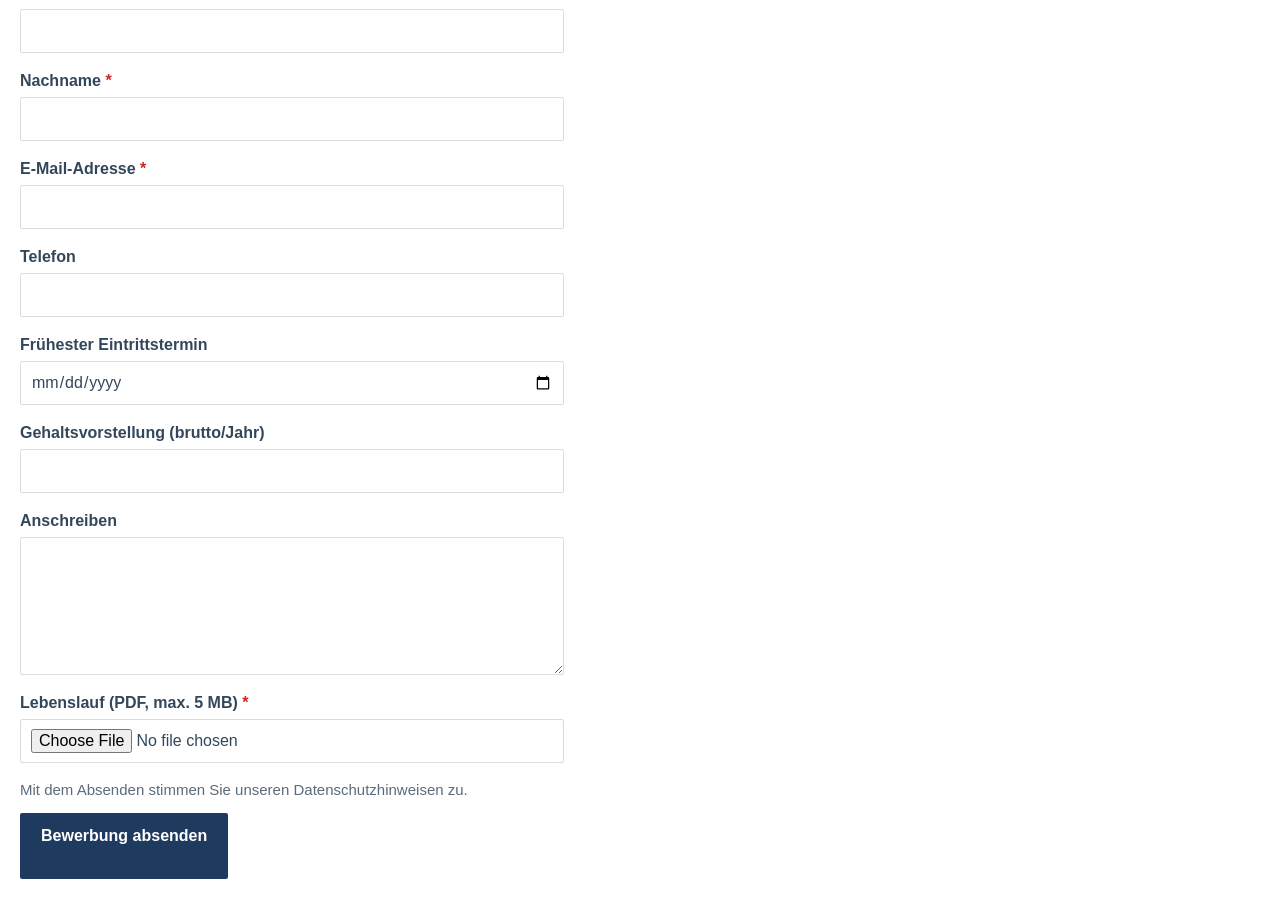
it: ApplicationFormStepComponent (docs/SPEC_v1.md Slice 8) › barrier `fehler` — resolved › renders a summary with jump links to every field in error
The width and height of the screenshot is (1280, 899).
(page scrolled)
Click the button with class "submit-button". click: (124, 846)
box: top-left (20, 813), bottom-right (228, 879)
(page scrolled)
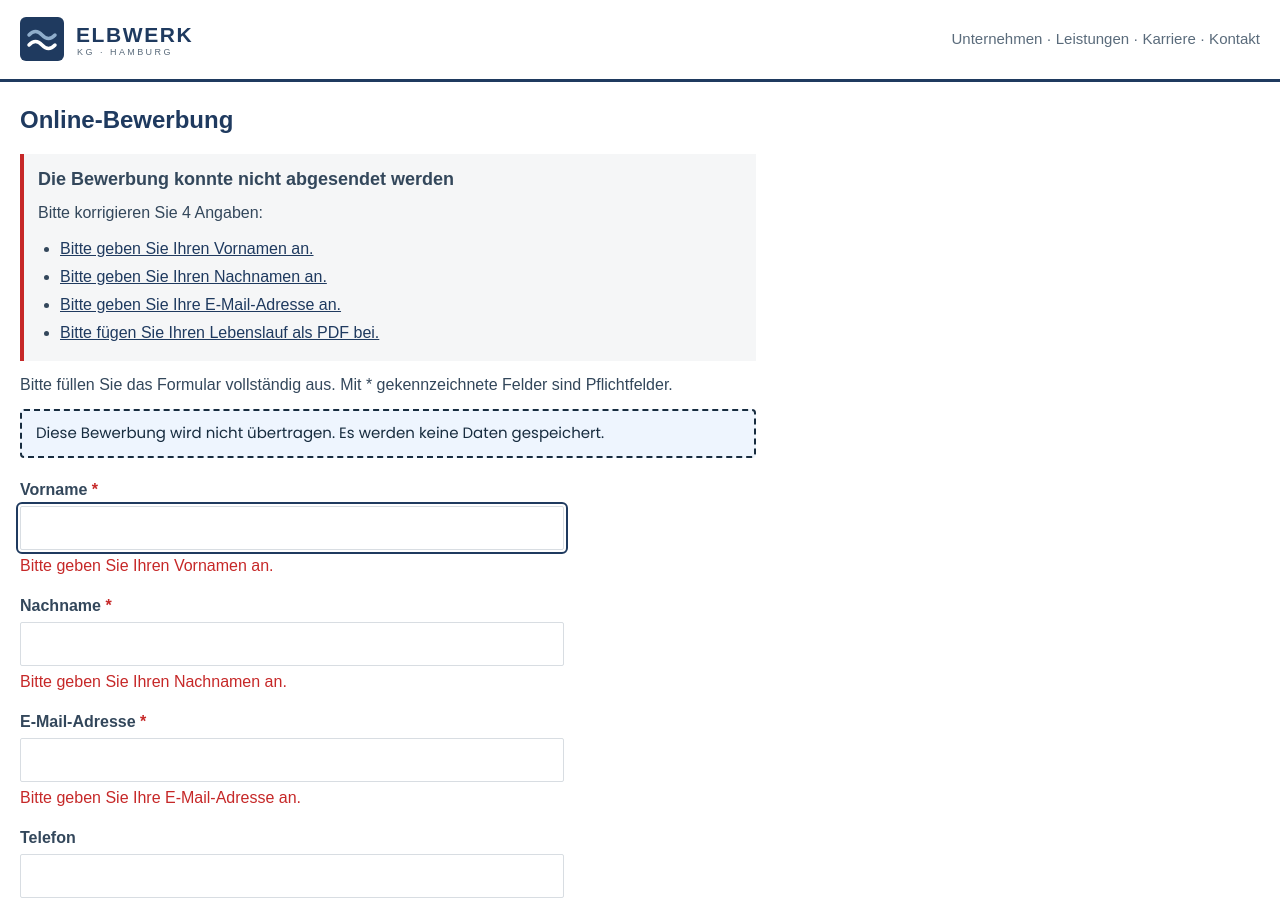
expect the heading "Die Bewerbung konnte nicht abgesendet werden" is shown: met, box top-left (38, 169), bottom-right (454, 189)
expect the message with class "error-summary" shows "Bitte korrigieren Sie 4 Angaben:": met, box top-left (38, 204), bottom-right (263, 221)
